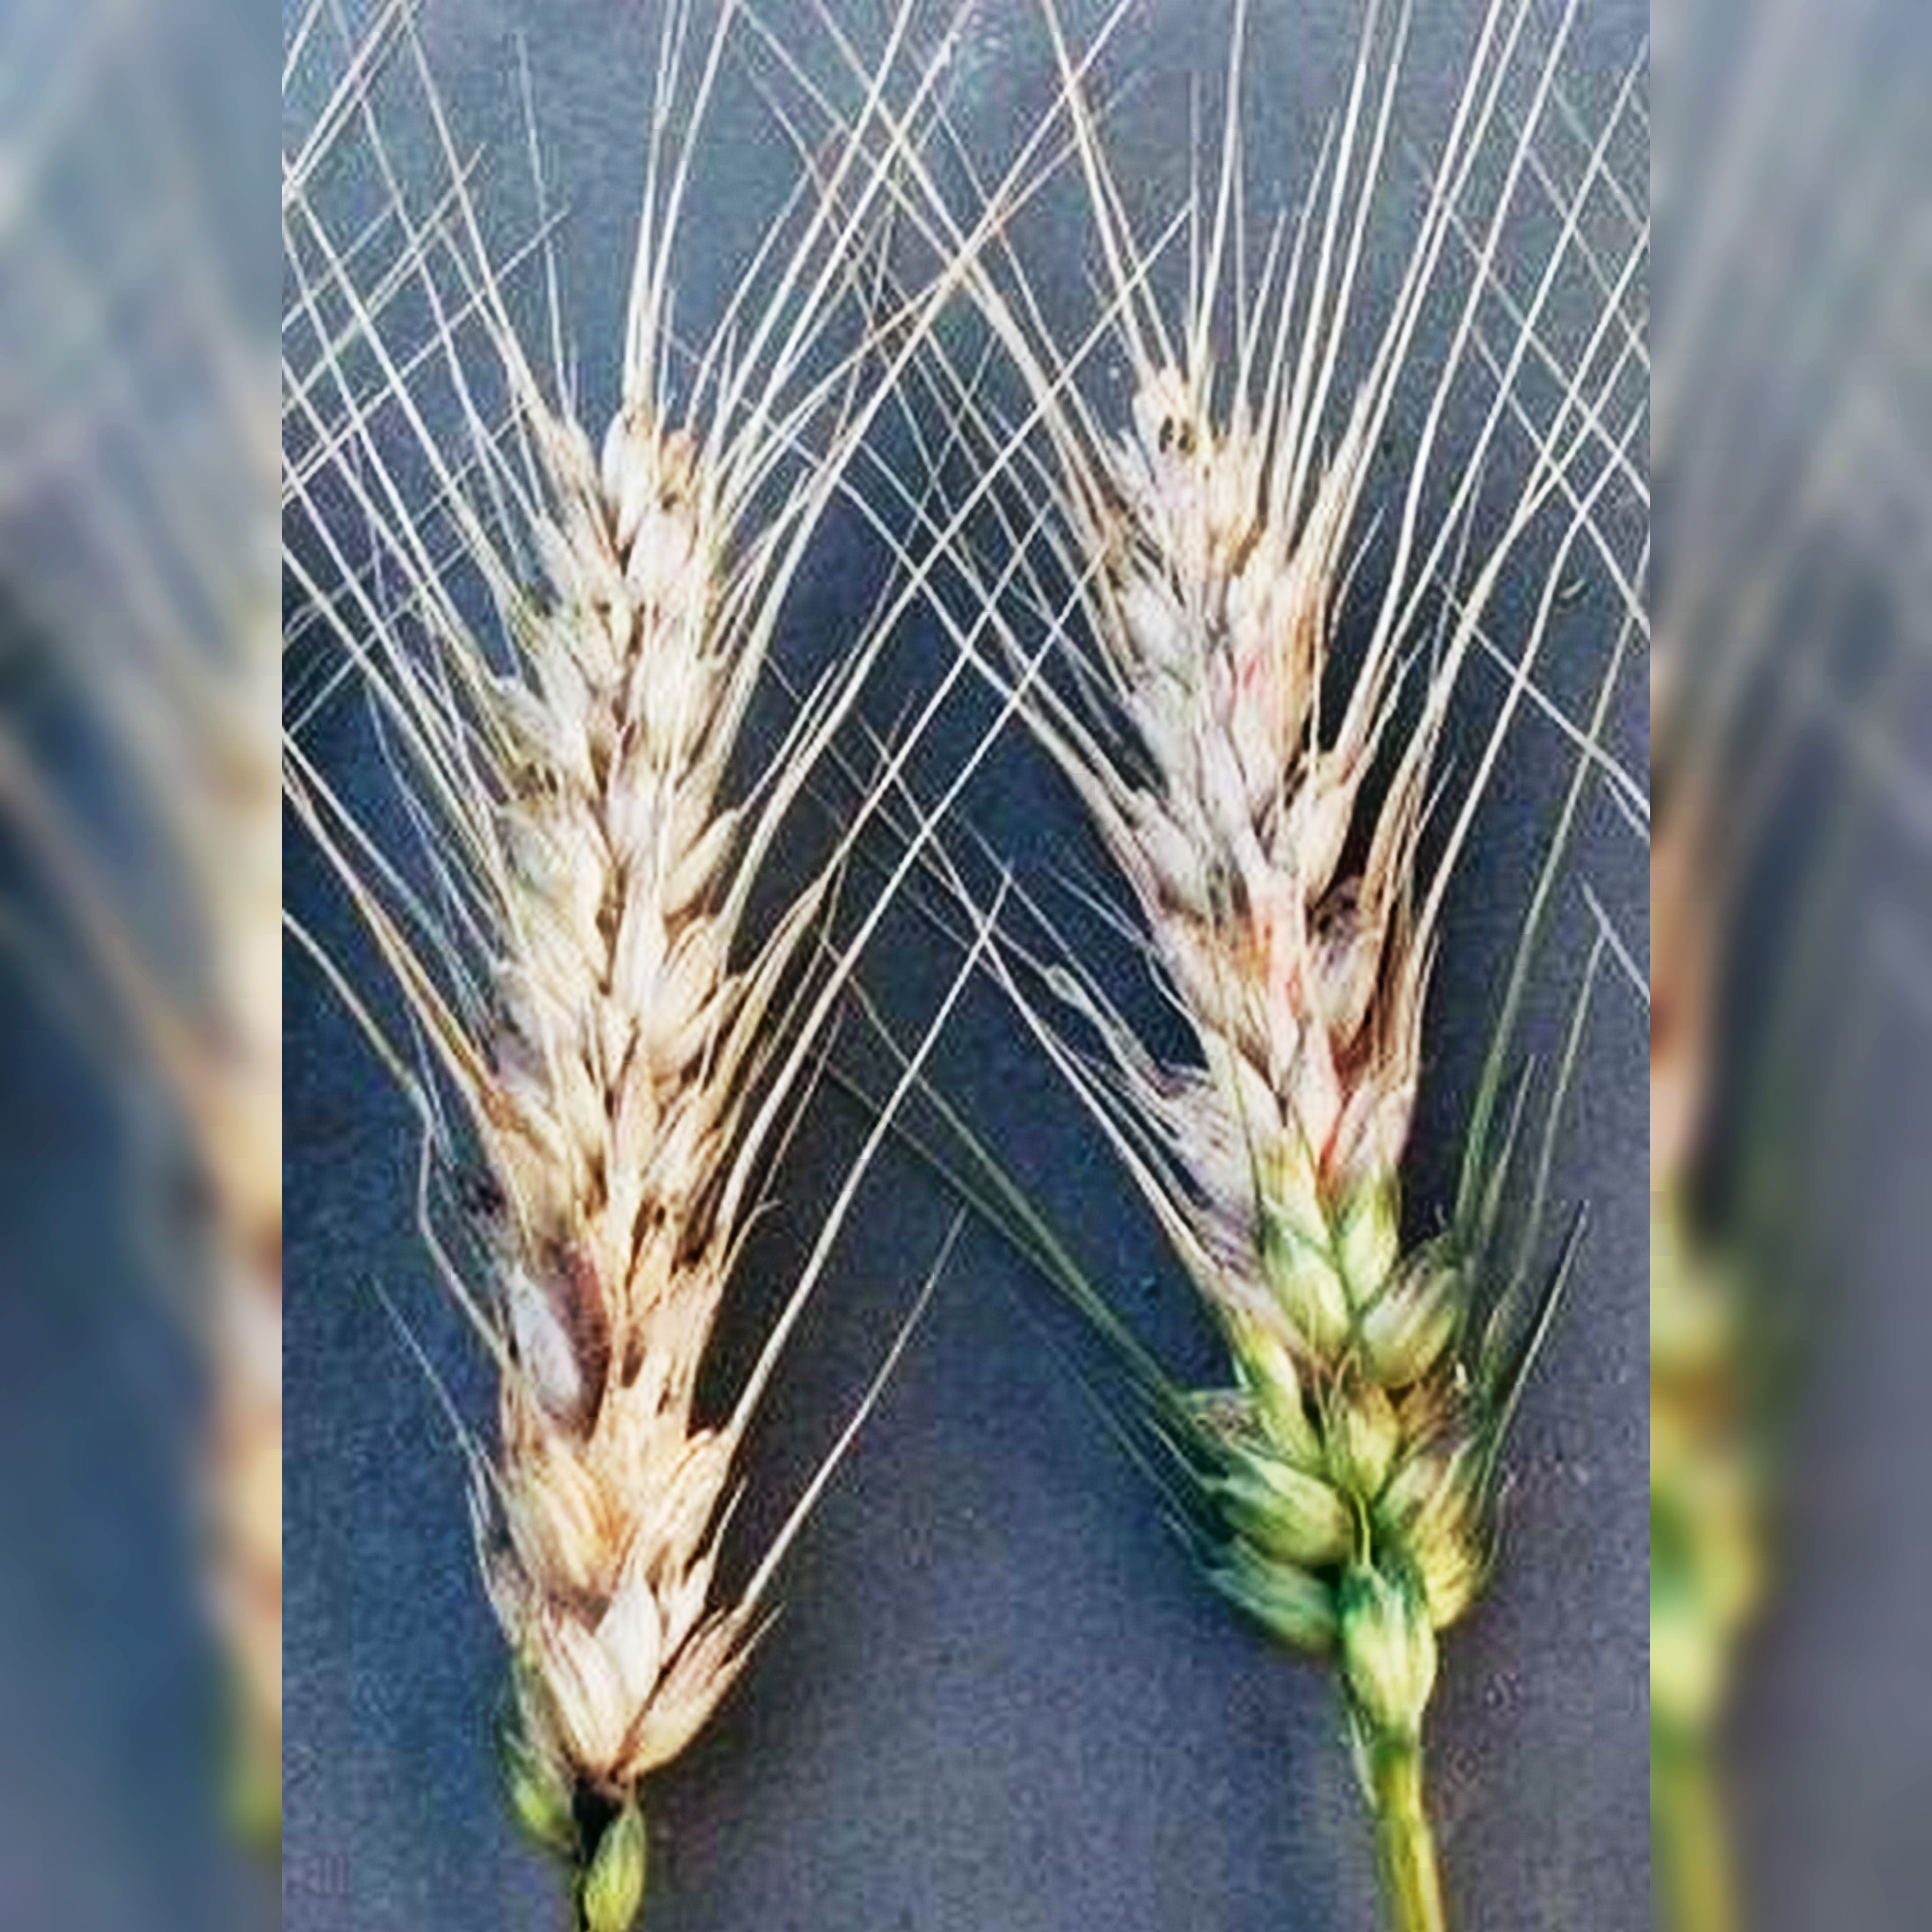Wheat scab: (980, 255, 1587, 1709), (400, 343, 837, 1755)
